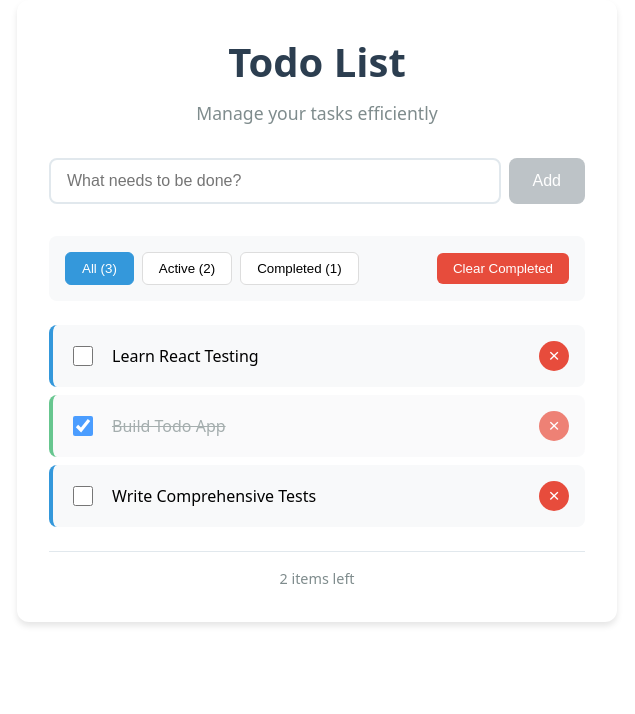
Test: AddTodoForm Component › trims whitespace from todo text
The width and height of the screenshot is (635, 714).
Step 1. Type "   Todo with spaces   " into the field with test id "todo-input" → (275, 181), box [49,158,500,204]
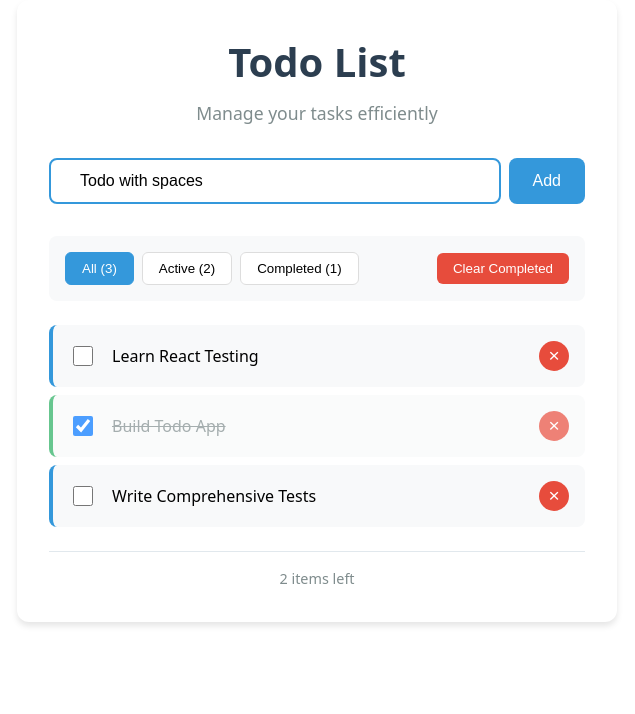
Step 2. Click the button with test id "add-button" → (547, 181), box [508,158,585,204]
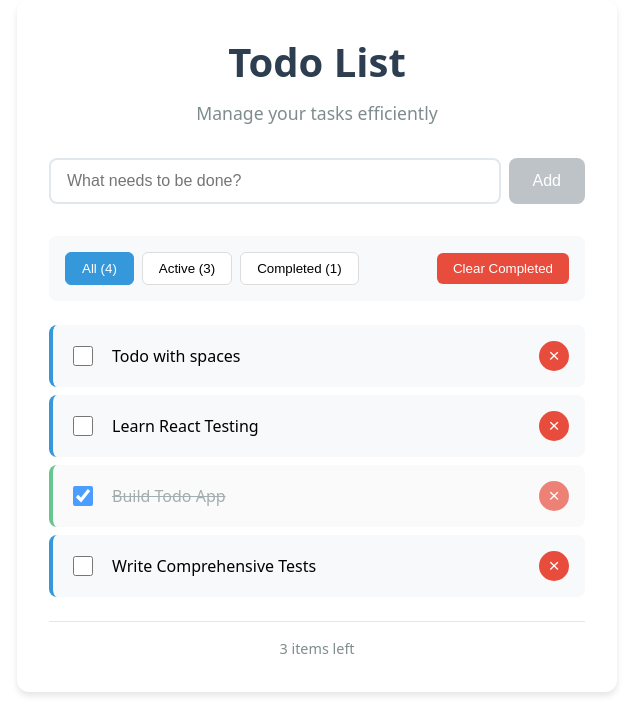
Expected: the text "Todo with spaces" does not show "", [112,345,240,367]
Expected: the text "Todo with spaces" is shown, [112,345,240,367]
